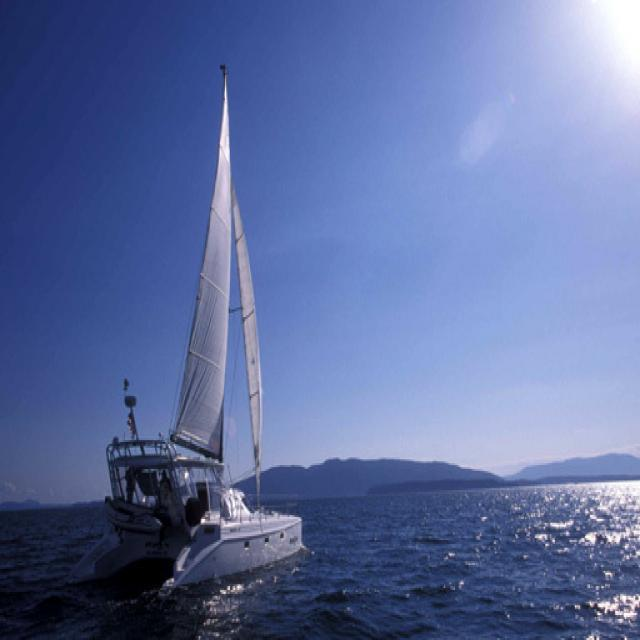Ship: (109, 65, 311, 590)
